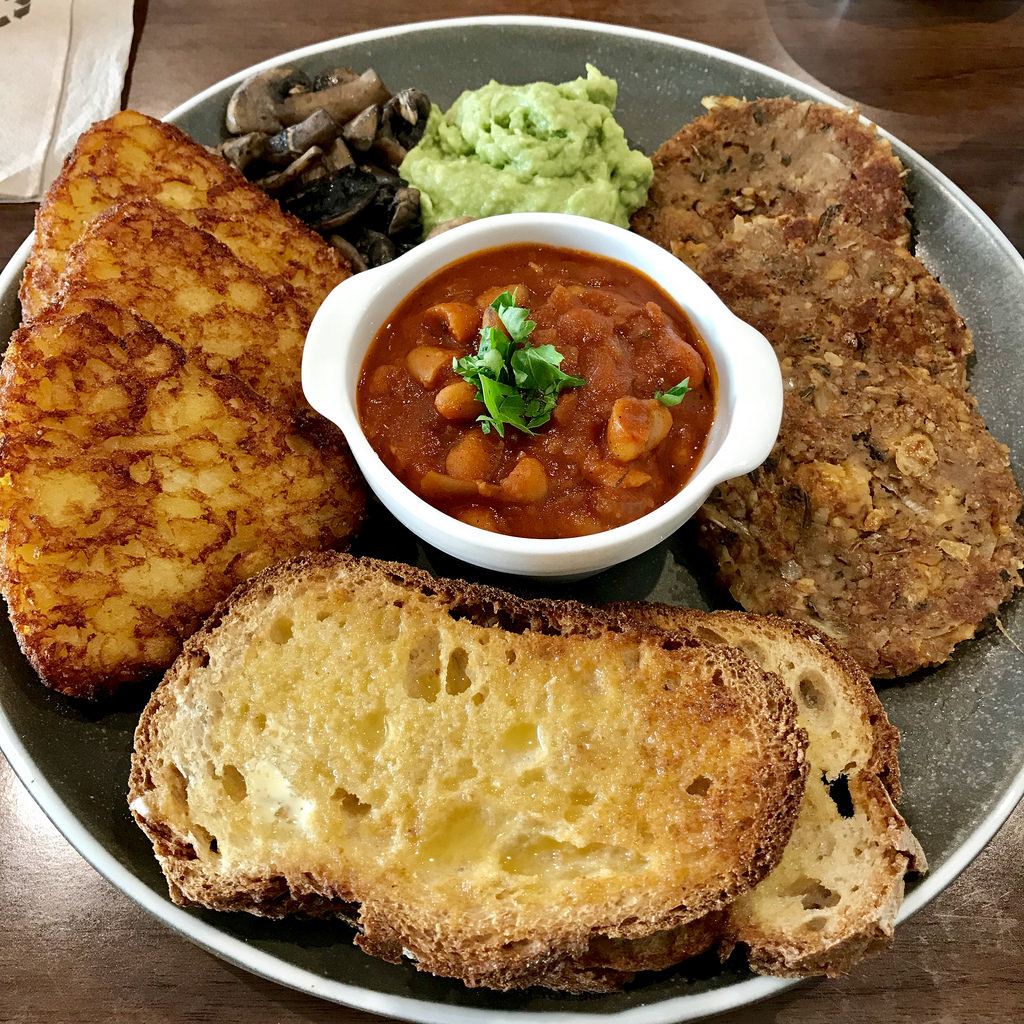chopped lettuce: (401, 82, 682, 249)
slice of bread: (129, 551, 910, 971)
